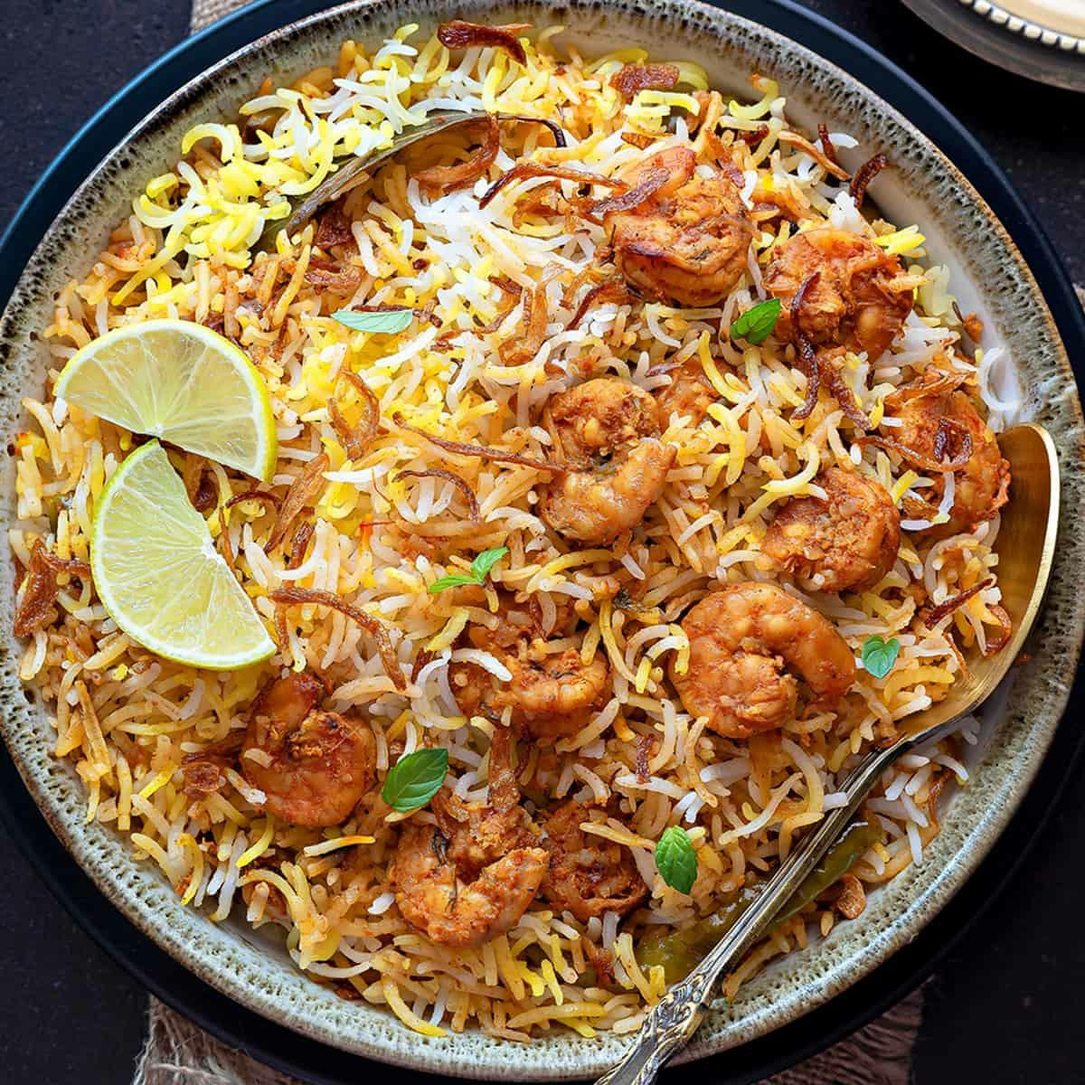Biryani: (14, 14, 1085, 1039)
